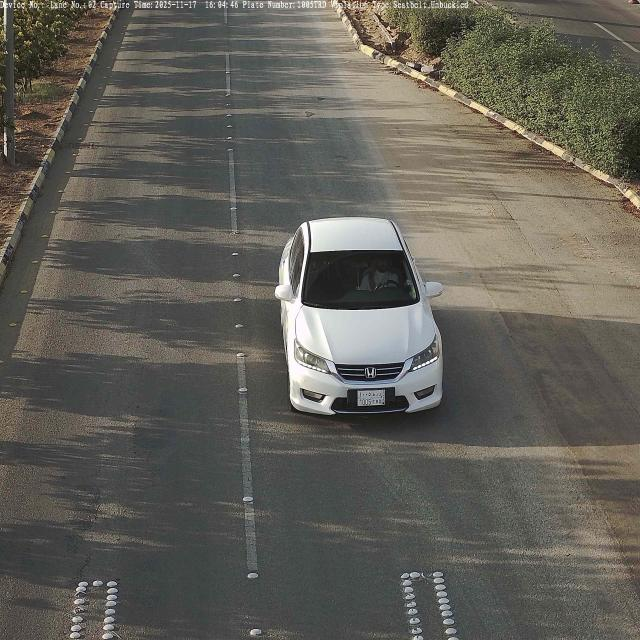person_without_seatbelt: (360, 256, 399, 291)
